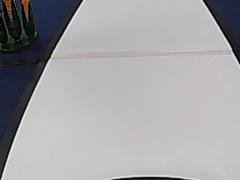corn: (0, 0, 41, 50)
